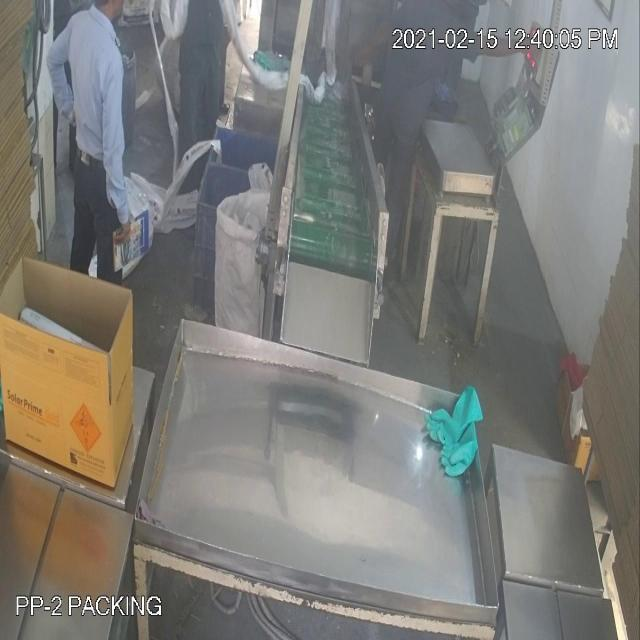gloves: (419, 376, 487, 484)
no-gloves: (99, 48, 139, 244)
